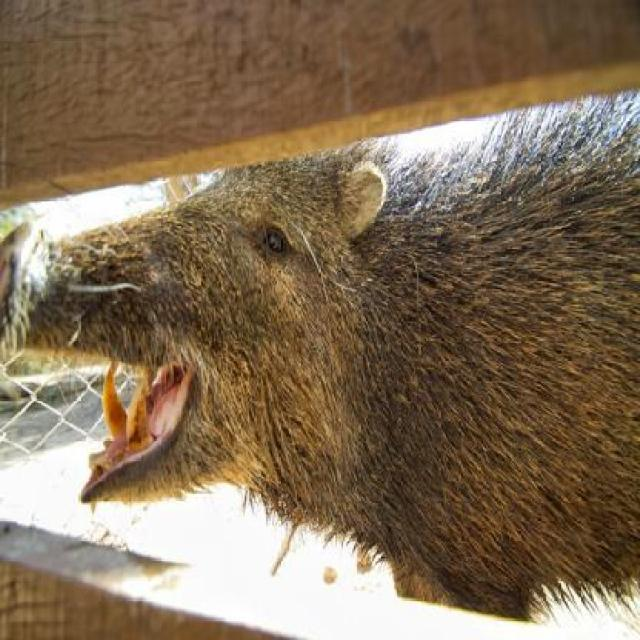Boar: (0, 89, 640, 629)
